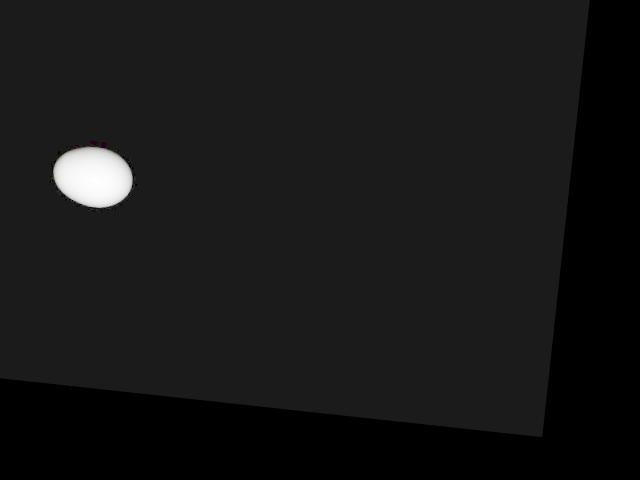egg: (51, 143, 136, 210)
